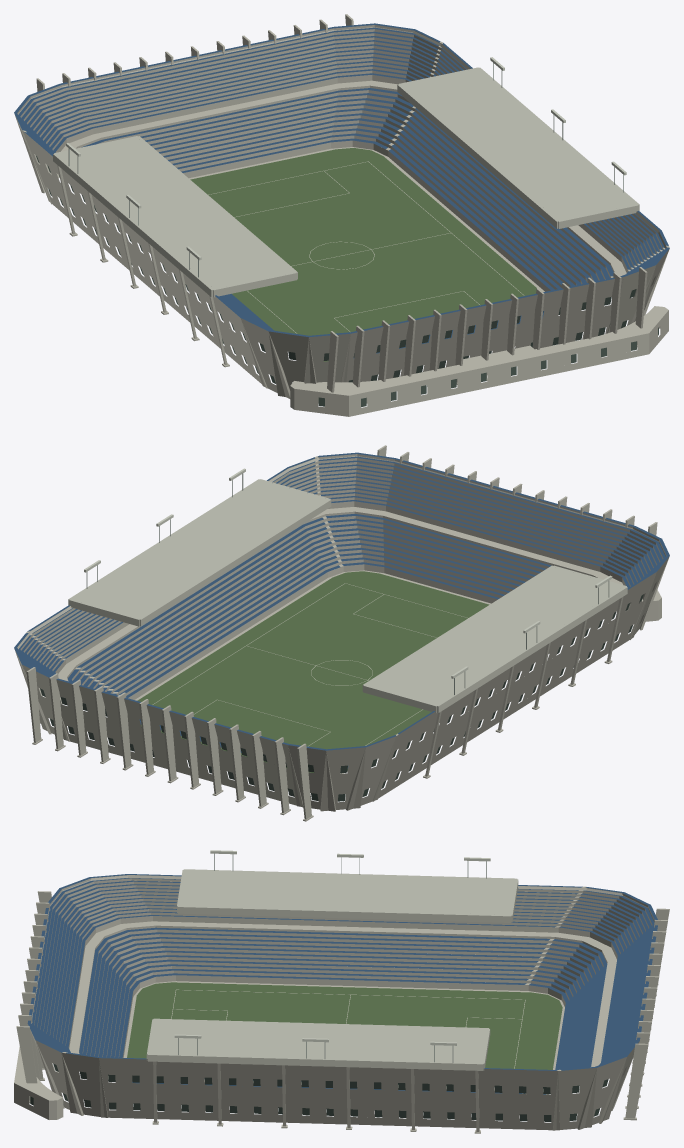
File: la-rosaleda-far.glb
The picture shows the model from 3 angles, top to bottom: view 1: azimuth 30°, elevation 25°; view 2: azimuth 150°, elevation 25°; view 3: azimuth 270°, elevation 25°; orthographic projection. The views are drawn at different scales.
Visible parts, largest first — view 1: la-rosaleda-0-concrete, la-rosaleda-0-pitch, la-rosaleda-0-roof, la-rosaleda-0-blue, la-rosaleda-0-glass, la-rosaleda-0-paint; view 2: la-rosaleda-0-concrete, la-rosaleda-0-pitch, la-rosaleda-0-roof, la-rosaleda-0-blue, la-rosaleda-0-glass, la-rosaleda-0-paint; view 3: la-rosaleda-0-concrete, la-rosaleda-0-blue, la-rosaleda-0-roof, la-rosaleda-0-pitch, la-rosaleda-0-glass, la-rosaleda-0-light, la-rosaleda-0-paint.
Boxes of the visible parts, x1,y1,x2,y2 form: la-rosaleda-0-concrete: (14,14,669,416); la-rosaleda-0-pitch: (190,148,536,361); la-rosaleda-0-roof: (53,67,639,297); la-rosaleda-0-blue: (14,23,669,358); la-rosaleda-0-glass: (36,156,658,407); la-rosaleda-0-paint: (208,161,524,333); la-rosaleda-0-concrete: (14,445,669,821); la-rosaleda-0-pitch: (137,571,489,772); la-rosaleda-0-roof: (68,479,627,712); la-rosaleda-0-blue: (14,452,669,768); la-rosaleda-0-glass: (40,594,643,801); la-rosaleda-0-paint: (152,583,468,746); la-rosaleda-0-concrete: (14,875,669,1133); la-rosaleda-0-blue: (27,874,657,1094); la-rosaleda-0-roof: (146,869,518,1070); la-rosaleda-0-pitch: (127,982,562,1069); la-rosaleda-0-glass: (30,1063,608,1121); la-rosaleda-0-light: (174,850,490,1045); la-rosaleda-0-paint: (171,989,525,1068).
Size of the model in its own units: 140 by 31.8 by 197.
